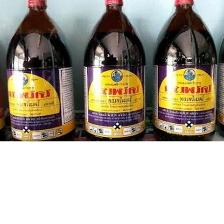insecticide: (3, 0, 76, 148), (148, 0, 221, 146), (80, 0, 148, 150)
